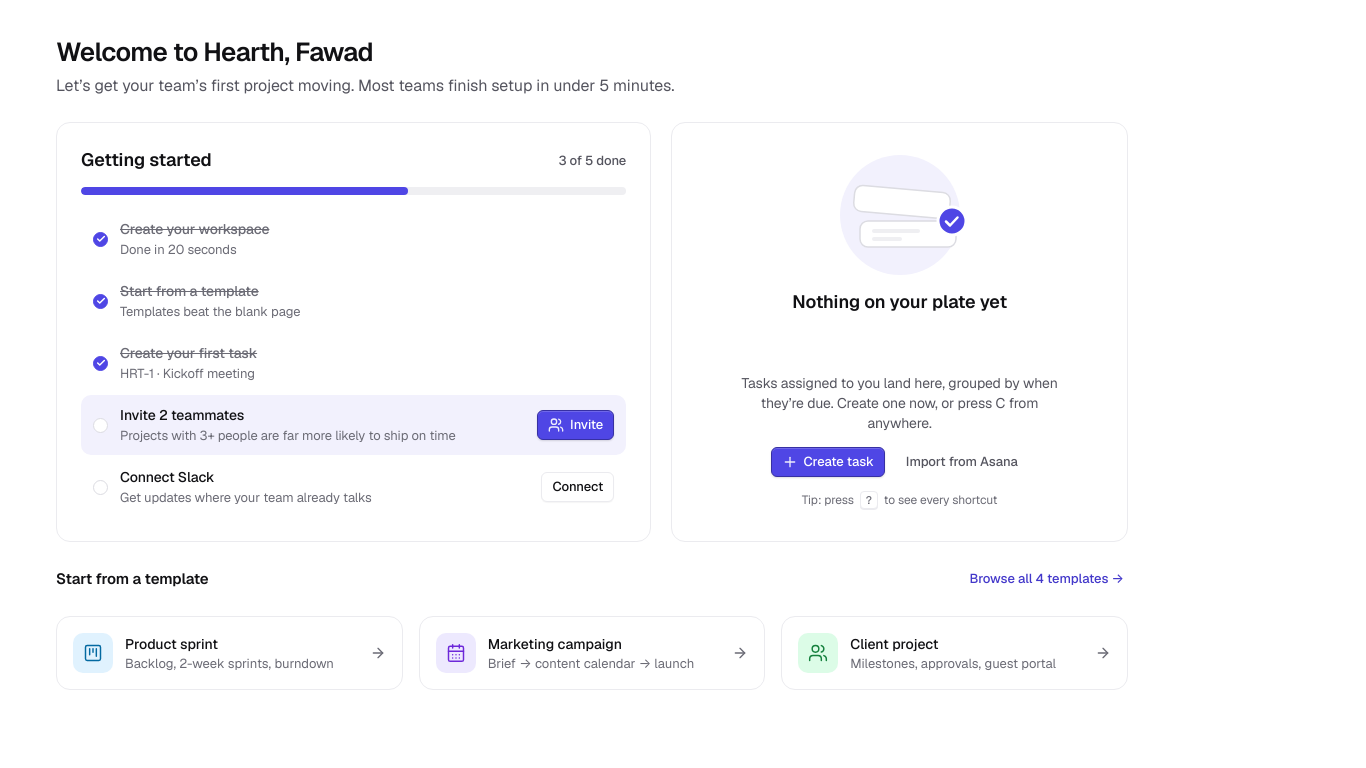
HomePage › applies a template and navigates to the new project board
The width and height of the screenshot is (1366, 768).
Click the button with aria-label "Start from Product sprint" at (229,653), box [56,616,403,690]
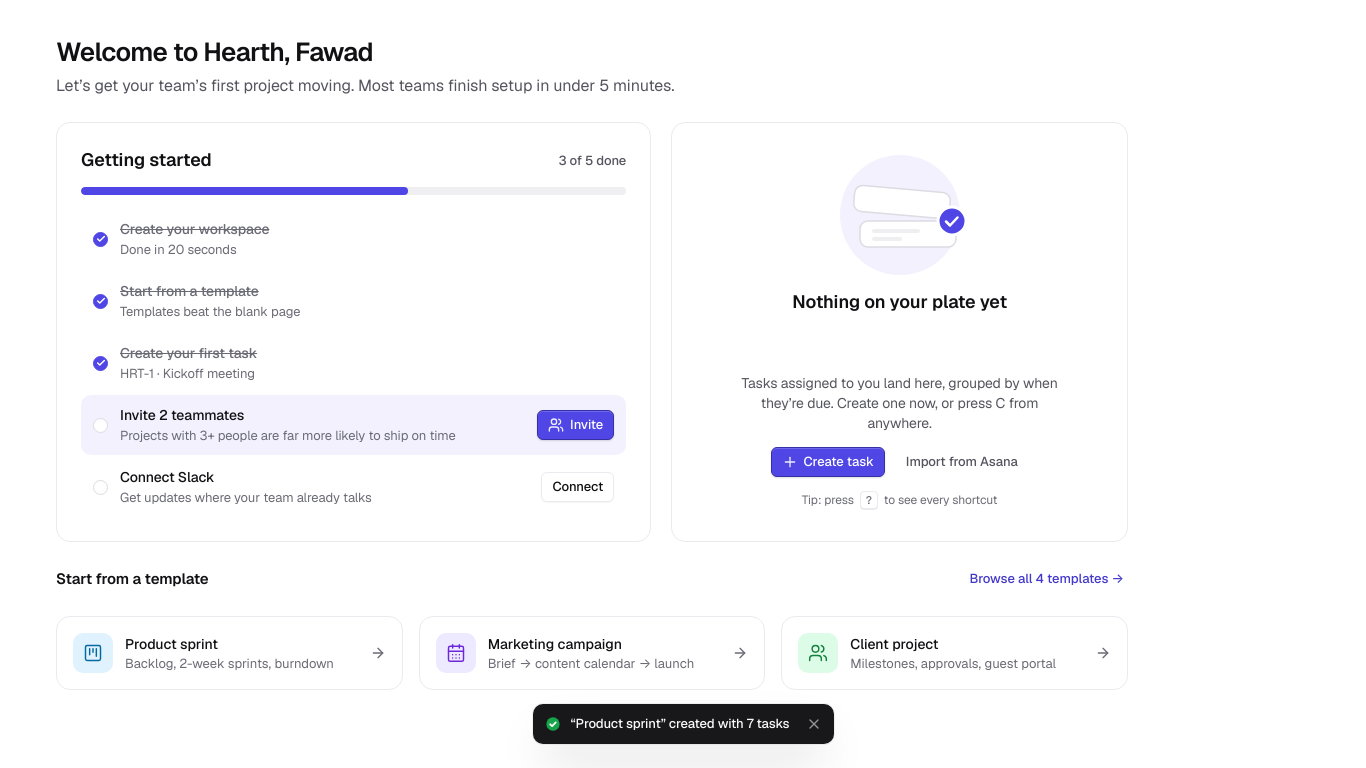
Now the text "“Product sprint” created with 7 tasks" is shown, box [570,715,790,733]
